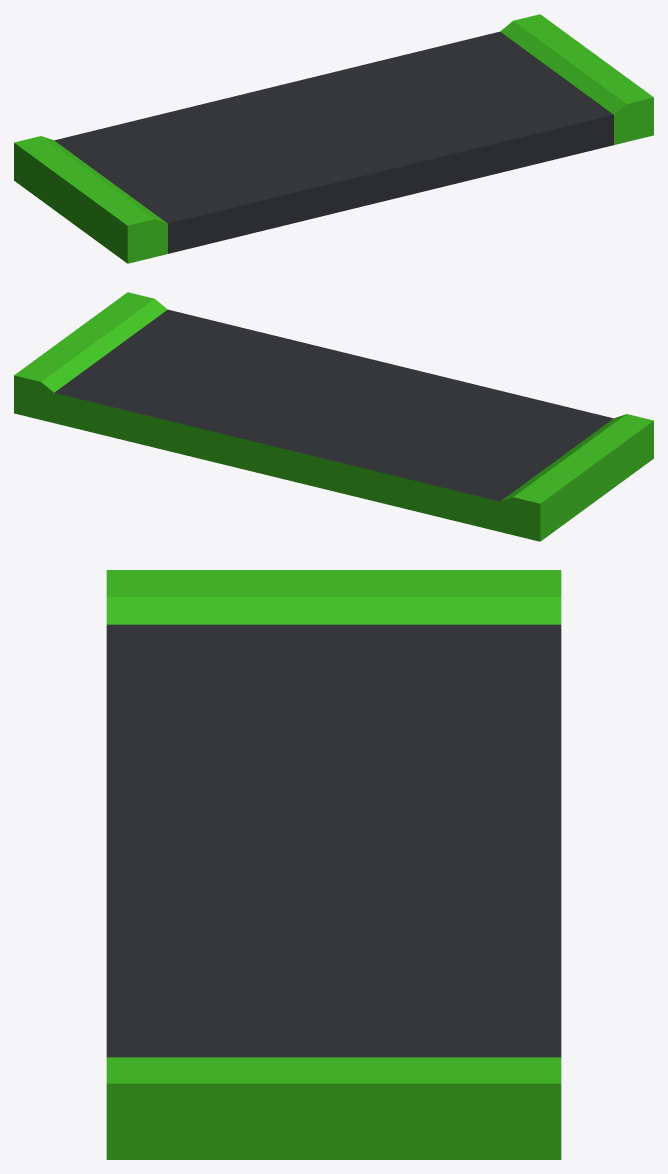
File: Road.fbx
The picture shows the model from 3 angles, top to bottom: view 1: azimuth 30°, elevation 25°; view 2: azimuth 150°, elevation 25°; view 3: azimuth 270°, elevation 25°; orthographic projection. The views are drawn at different scales.
Visible parts, largest first — view 1: Conveyor; view 2: Conveyor; view 3: Conveyor.
Boxes of the visible parts, <box> form: Conveyor: <box>14,14,653,263</box>; Conveyor: <box>14,292,653,541</box>; Conveyor: <box>106,570,561,1159</box>.
Bounding box in the file's own units: 2410 × 166 × 902.
